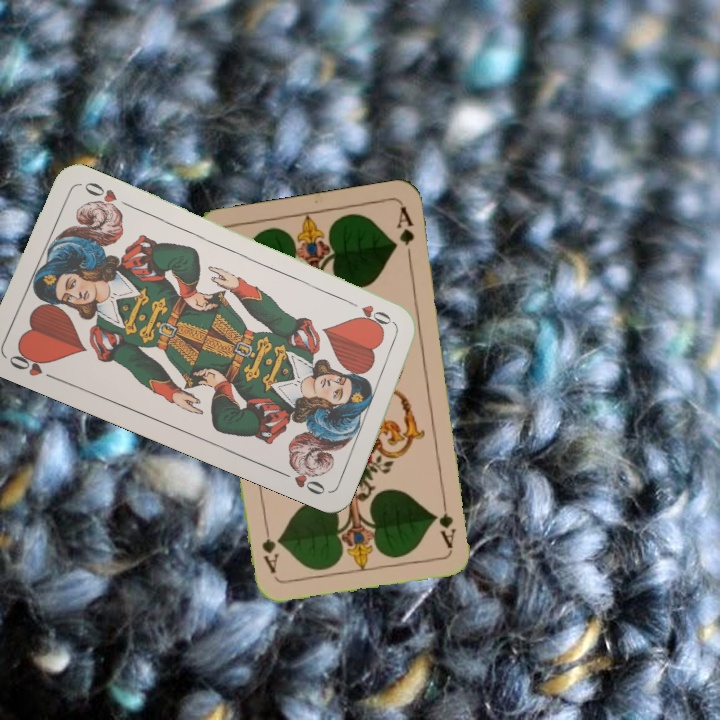GA: (437, 491, 458, 550)
HO: (4, 346, 60, 383), (342, 295, 398, 328)
